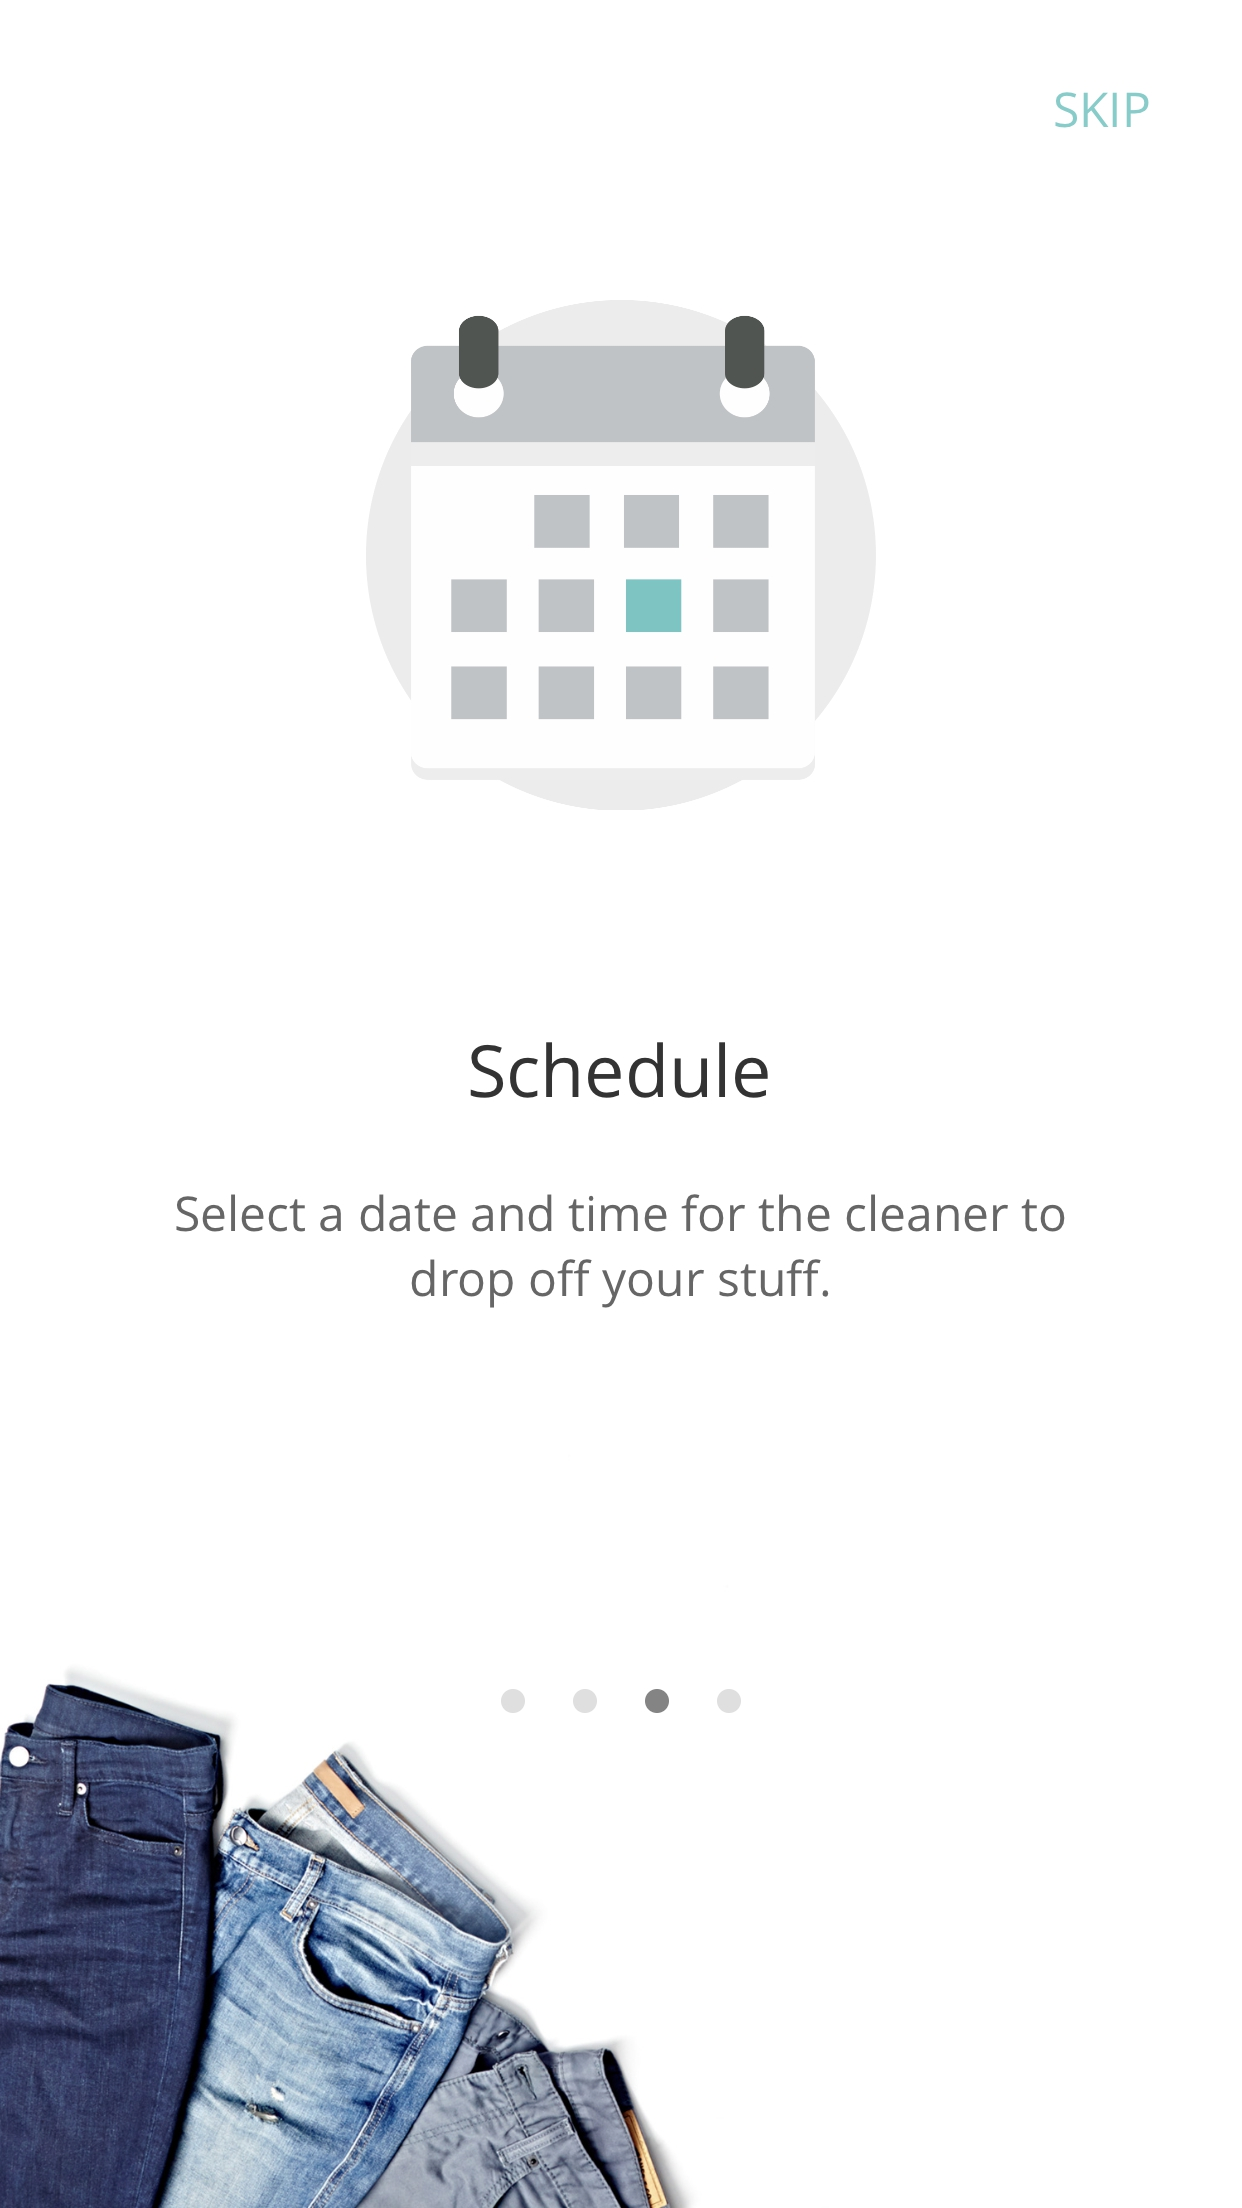Image: (2, 1683, 670, 2208), (365, 299, 877, 811)
PageIndicator: (500, 1688, 742, 1714)
Text: (174, 1193, 1065, 1309), (470, 1040, 769, 1099), (1055, 93, 1149, 129)
